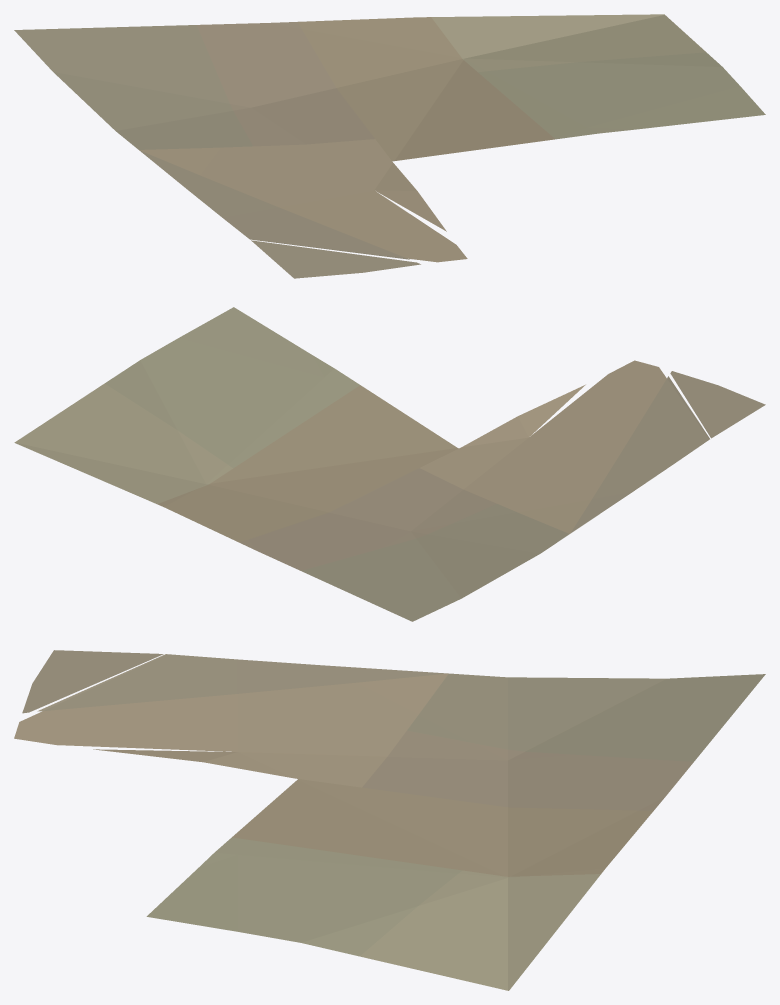
File: farm_8_13_soil.glb
3 renders of one model, top to bottom at view 1: azimuth 30°, elevation 25°; view 2: azimuth 150°, elevation 25°; view 3: azimuth 270°, elevation 25°, orthographic. The views are drawn at different scales.
Visible parts, largest first — view 1: geometry_0; view 2: geometry_0; view 3: geometry_0.
Boxes of the visible parts, box(x1,y1,x2,y2) form: geometry_0: box(14, 14, 765, 278); geometry_0: box(14, 307, 765, 621); geometry_0: box(14, 650, 765, 990).
Size of the model in its own units: 216 by 13 by 222.
